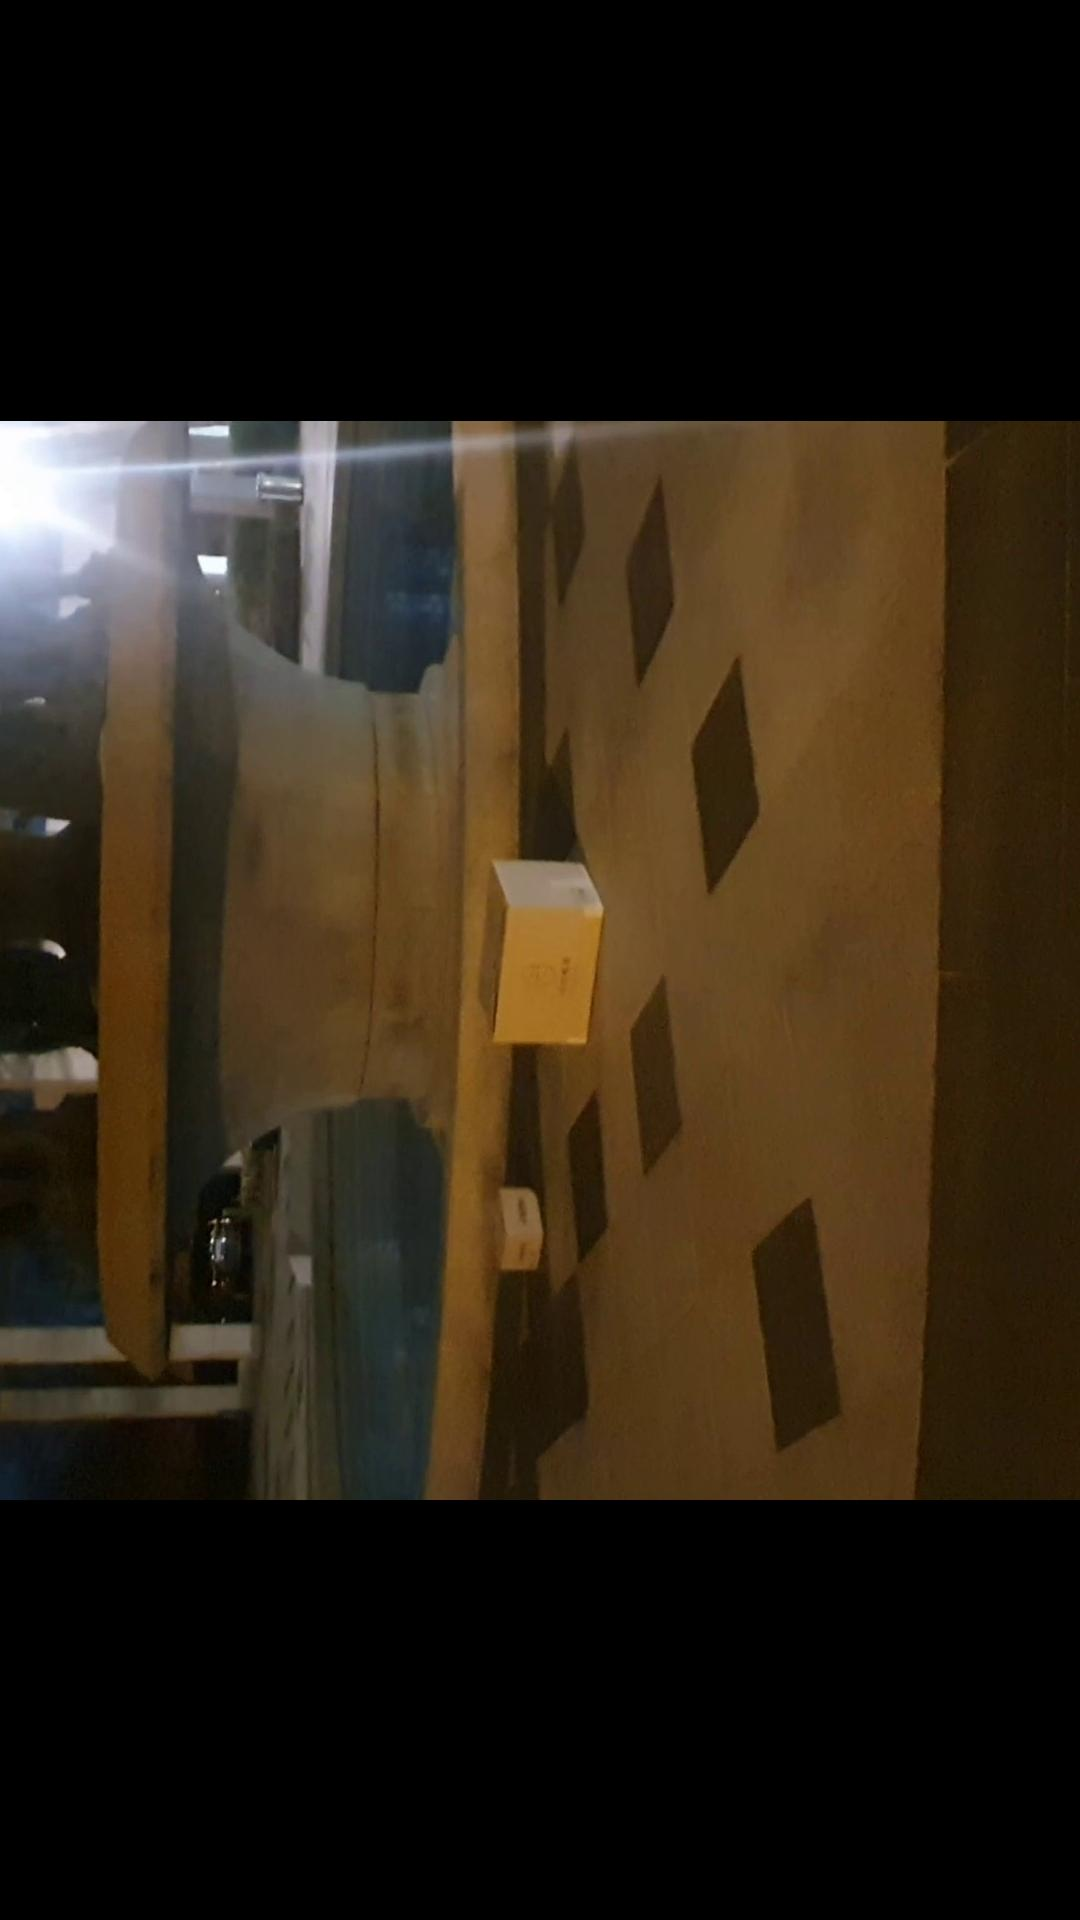Box: (469, 851, 615, 1064), (473, 1178, 553, 1282)
